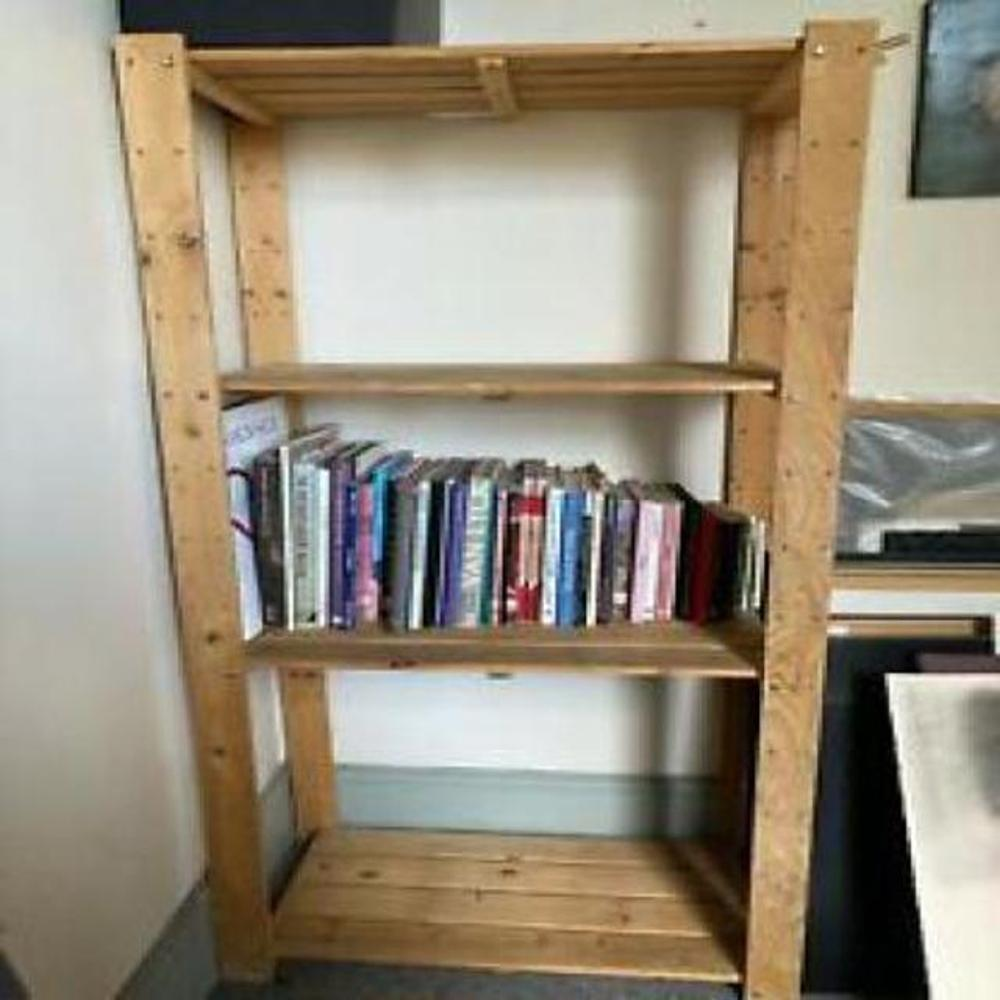lamp: (106, 17, 894, 997)
